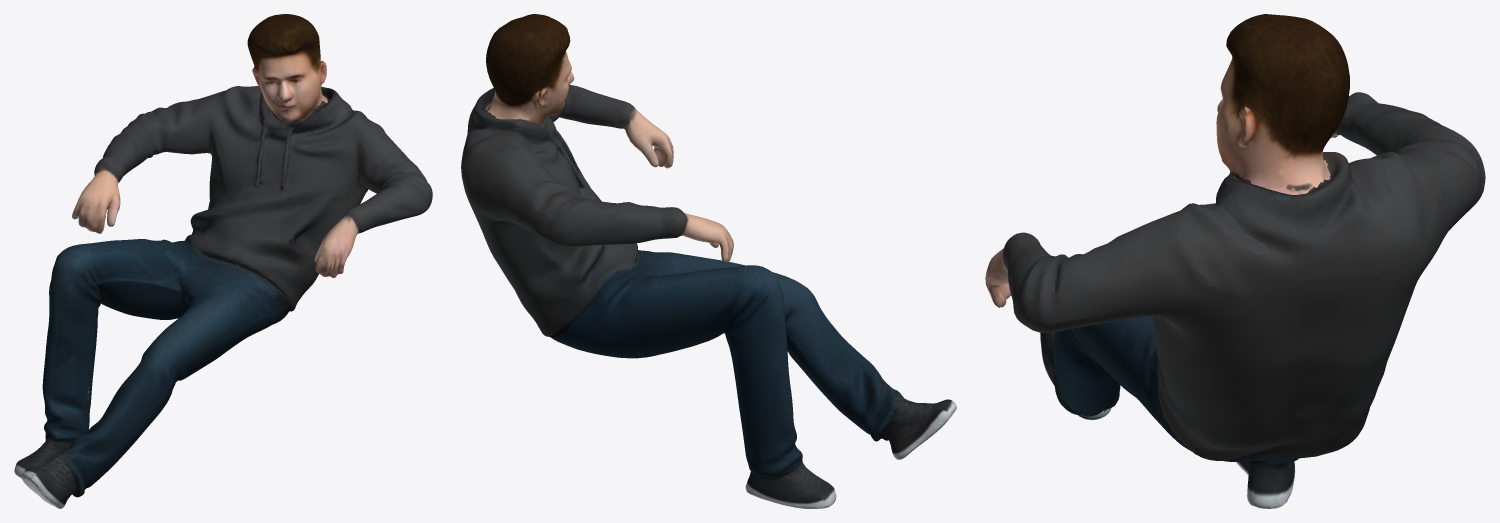
File: person.glb
The picture shows the model from 3 angles, left to right: view 1: azimuth 30°, elevation 25°; view 2: azimuth 150°, elevation 25°; view 3: azimuth 270°, elevation 25°; orthographic projection. The views are drawn at different scales.
Parts seen in each view (by area): view 1: tmp6281cdui.ply; view 2: tmp6281cdui.ply; view 3: tmp6281cdui.ply.
Boxes of the visible parts, x1,y1,x2,y2 form: tmp6281cdui.ply: [14, 14, 432, 508]; tmp6281cdui.ply: [461, 14, 956, 508]; tmp6281cdui.ply: [985, 14, 1485, 508].
Bounding box in the file's own units: 0.9869 × 0.9173 × 0.6393.
Materials: 1 (1 with a texture image).
